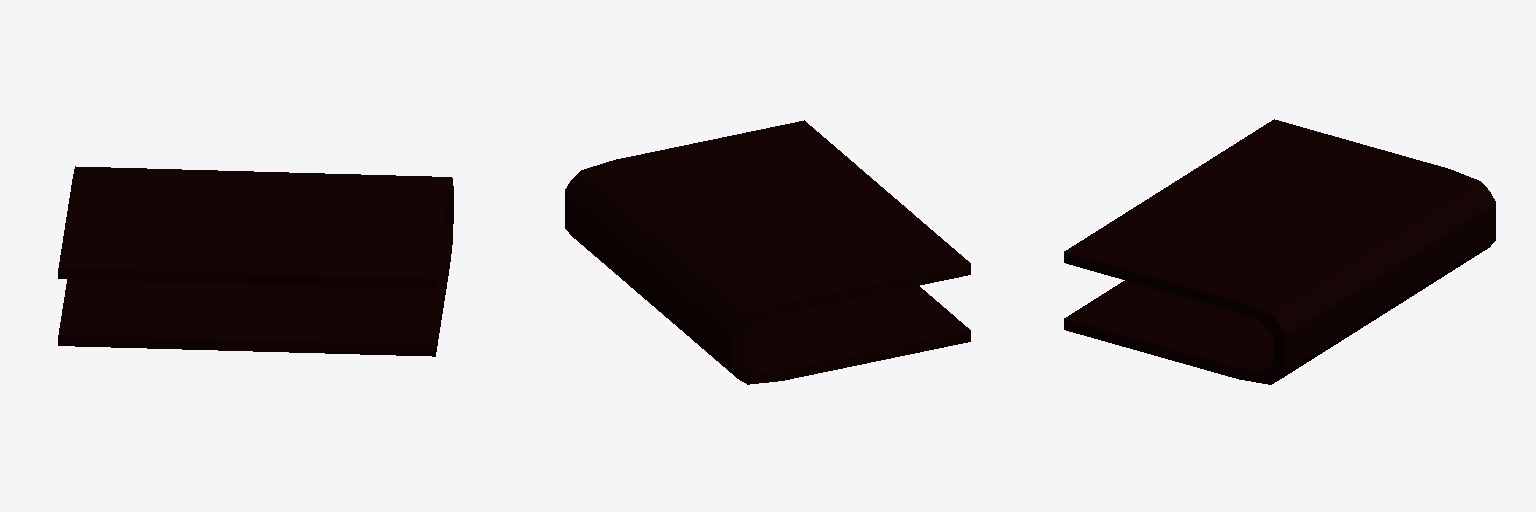
The model's file is book_cover.obj.
3 renders of one model, left to right at view 1: azimuth 30°, elevation 25°; view 2: azimuth 150°, elevation 25°; view 3: azimuth 270°, elevation 25°, orthographic.
Visible parts, largest first — view 1: Book1_Closed_Cube.000; view 2: Book1_Closed_Cube.000; view 3: Book1_Closed_Cube.000.
Boxes of the visible parts, x1=… form: Book1_Closed_Cube.000: x1=58, y1=166, x2=453, y2=356; Book1_Closed_Cube.000: x1=565, y1=120, x2=970, y2=384; Book1_Closed_Cube.000: x1=1064, y1=119, x2=1495, y2=384.
Bounding box in the file's own units: 0.967 × 0.1796 × 0.9035.